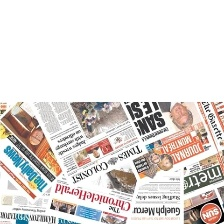news_paper: (32, 100, 147, 193), (125, 97, 224, 190), (0, 101, 67, 206), (45, 160, 140, 223), (120, 166, 184, 224), (170, 146, 224, 197), (0, 179, 61, 224), (174, 185, 224, 223)
